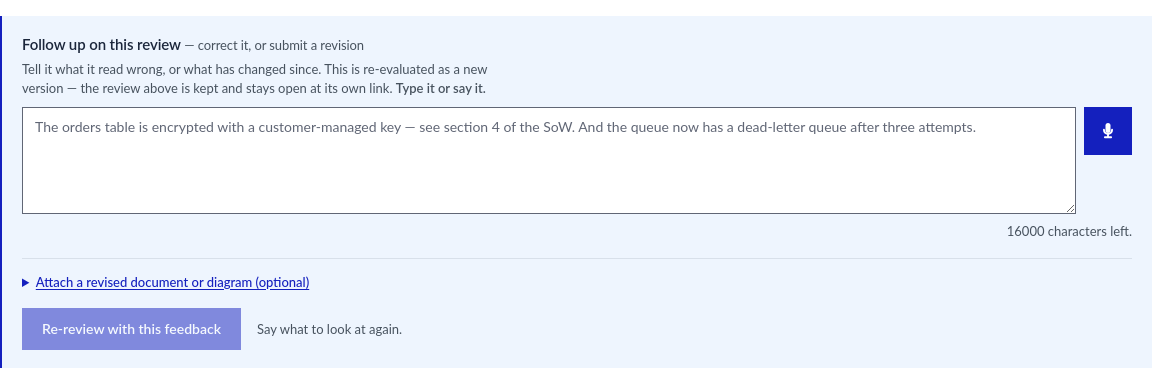
Test: FeedbackBox — dictation › appends to typed text rather than replacing it
Type "Encryption is specified." into the text box named "What this review got wrong, or what has changed" at x=549, y=160, box [22,106,1076,214]
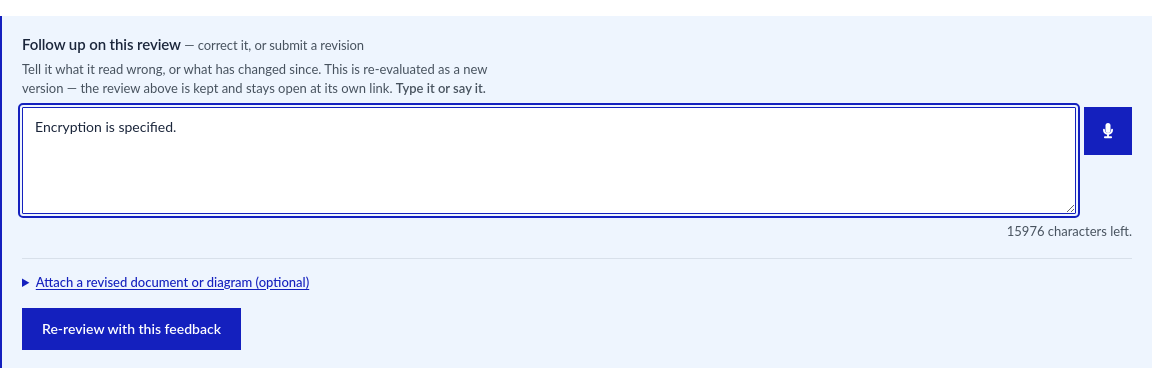
Click the button named "Speak your feedback" at x=1108, y=130, box [1084,106,1132,154]
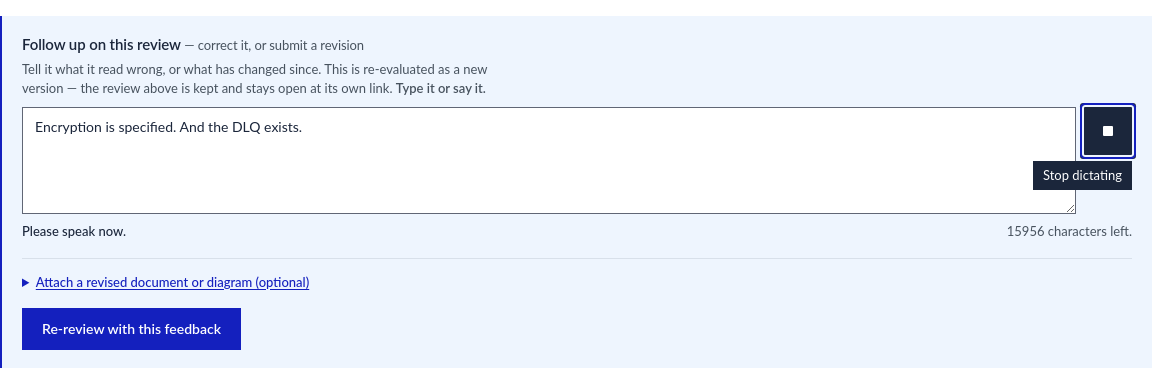
Now the text box named "What this review got wrong, or what has changed" holds "Encryption is specified. And the DLQ exists.", box [22,106,1076,214]
